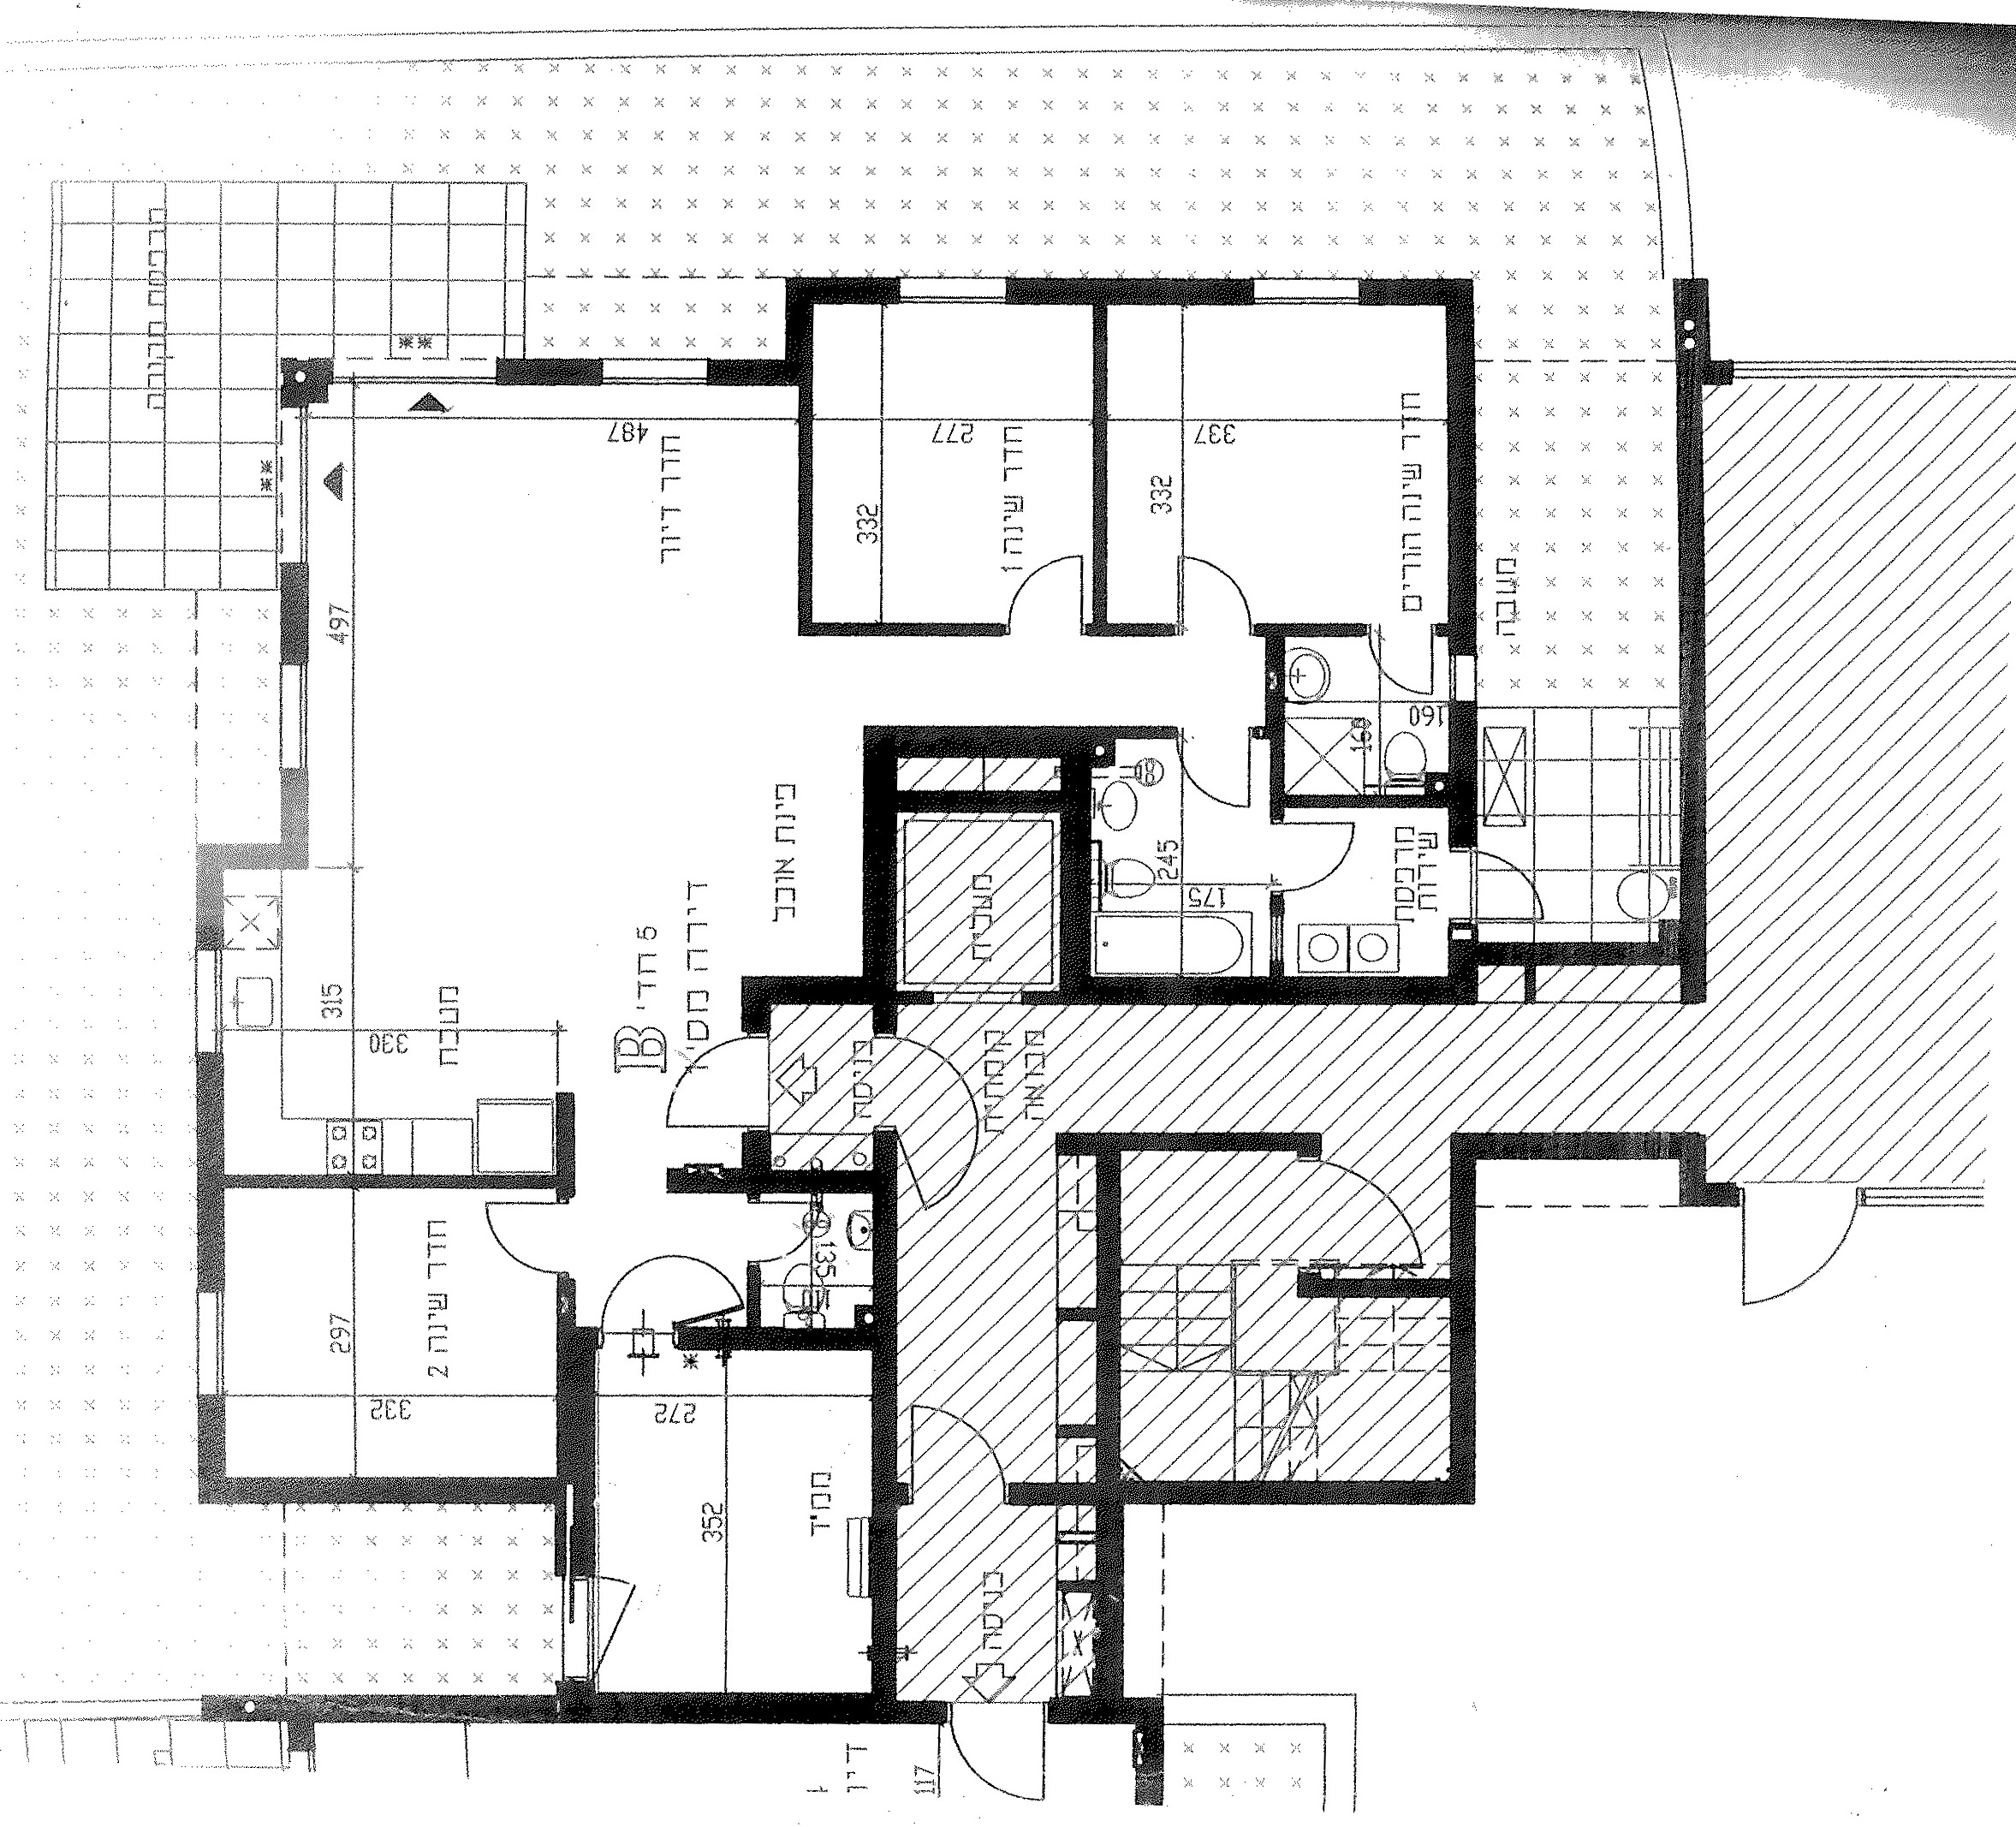door: (894, 1026, 987, 1228), (1742, 1177, 1856, 1314), (1300, 1151, 1426, 1272), (948, 1697, 1052, 1825), (606, 1237, 752, 1326), (903, 1397, 999, 1502), (664, 1035, 773, 1126), (469, 1198, 587, 1281), (1177, 546, 1252, 654), (1003, 555, 1080, 645), (1363, 617, 1442, 697), (1271, 822, 1366, 889), (1468, 849, 1551, 921)
wall: (1094, 1149, 1127, 1702), (560, 1674, 880, 1730), (853, 717, 901, 975), (1440, 281, 1473, 606), (560, 1328, 601, 1483)
window: (897, 269, 1012, 323), (604, 351, 709, 401), (270, 666, 314, 775), (193, 1296, 235, 1397)
